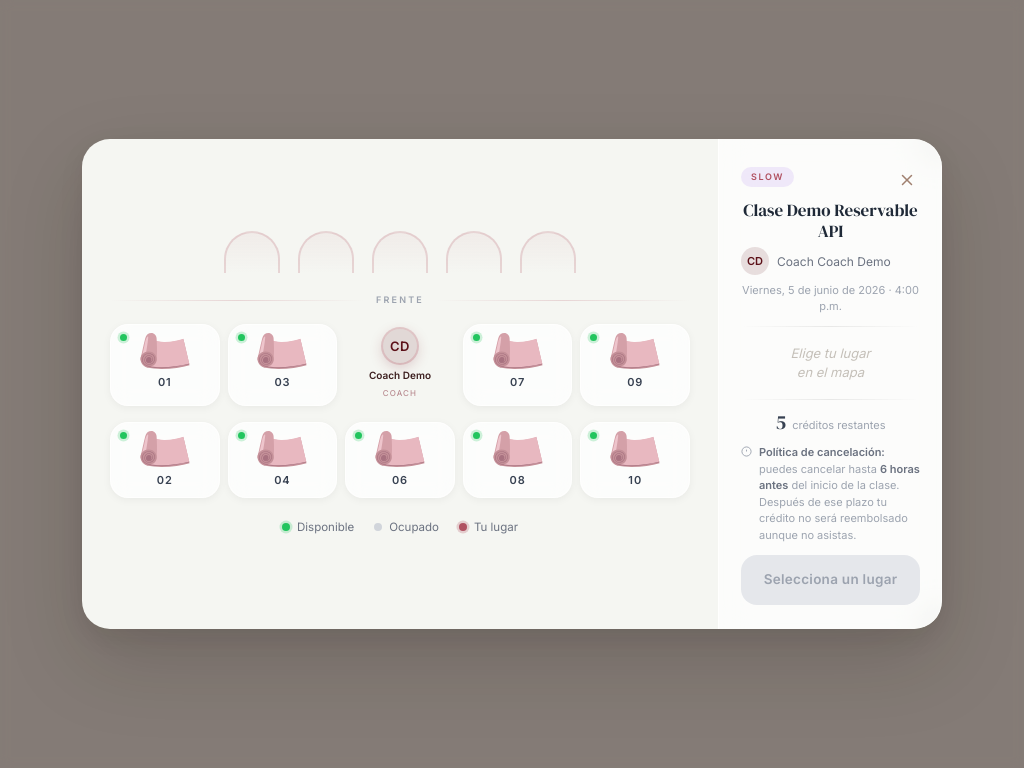
Test: EquipmentReservationPanel › al seleccionar segundo spot reemplaza el anterior y confirma solo un lugar
Click the button with test id "slow-spot-01" at [165, 365], box [110,324,220,406]
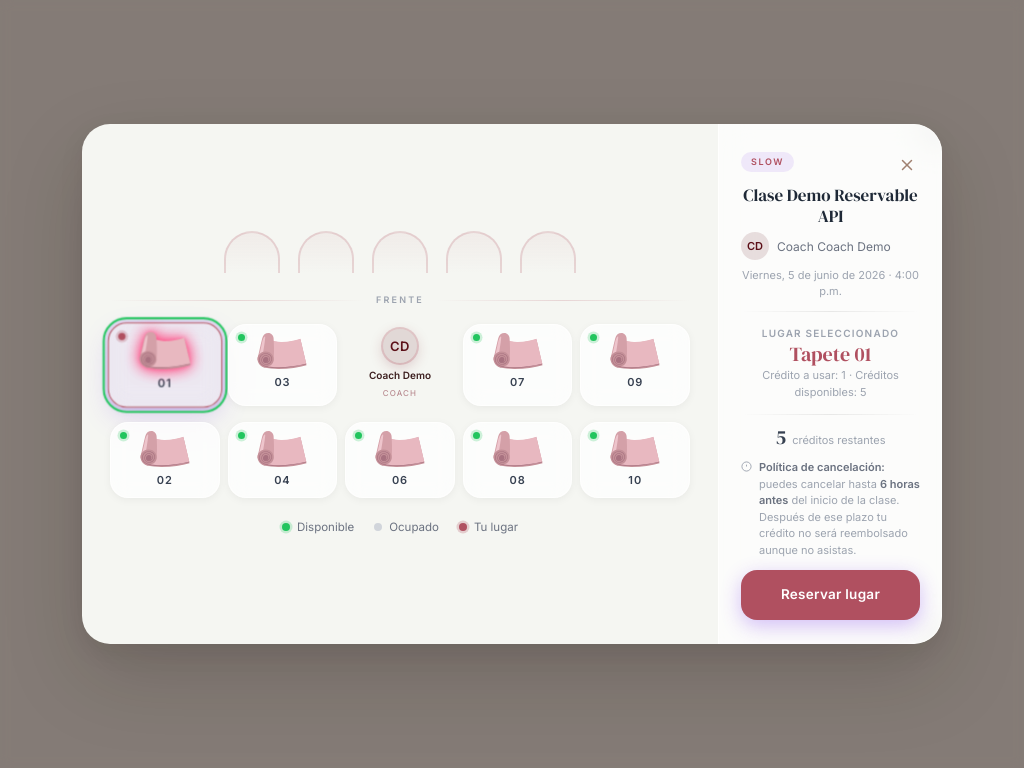
Click the button with test id "slow-spot-02" at [165, 460], box [110,422,220,498]
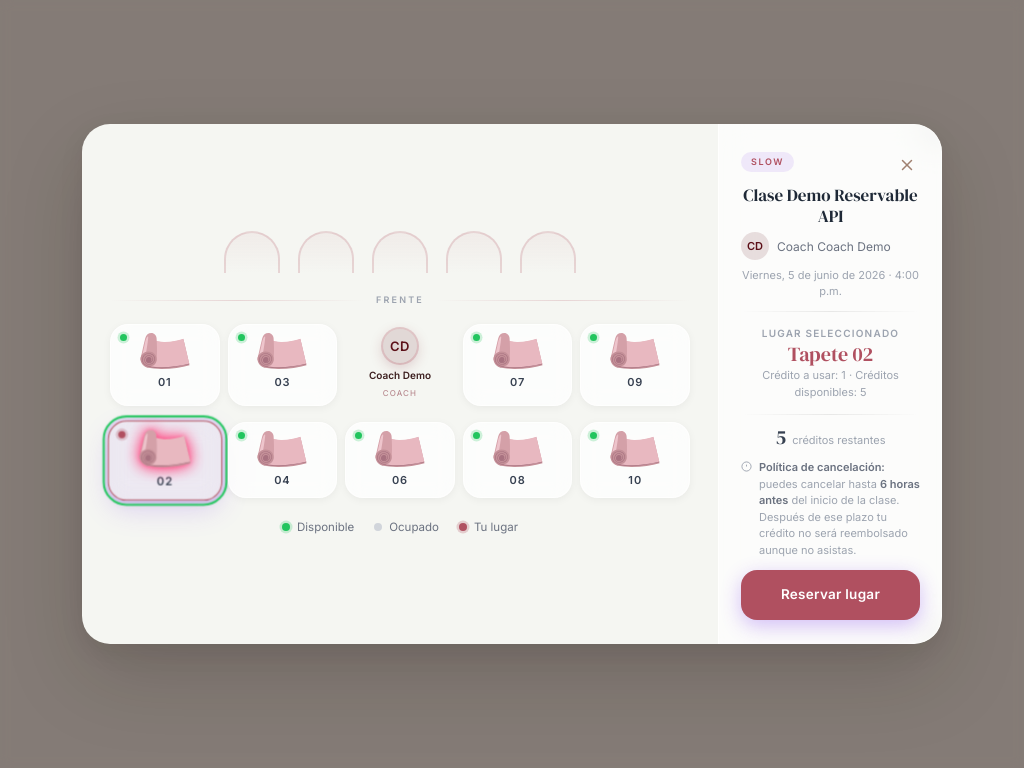
Expected: the text "Lugar seleccionado" is shown, [762,327,899,339]
Expected: the dialog named "Seleccionar lugar" shows "Crédito a usar: 1", [82,124,942,644]
Expected: the text "Tapete 02" is shown, [788,340,873,368]
Click the button "Reservar lugar" at [830, 595], box [741,570,920,620]
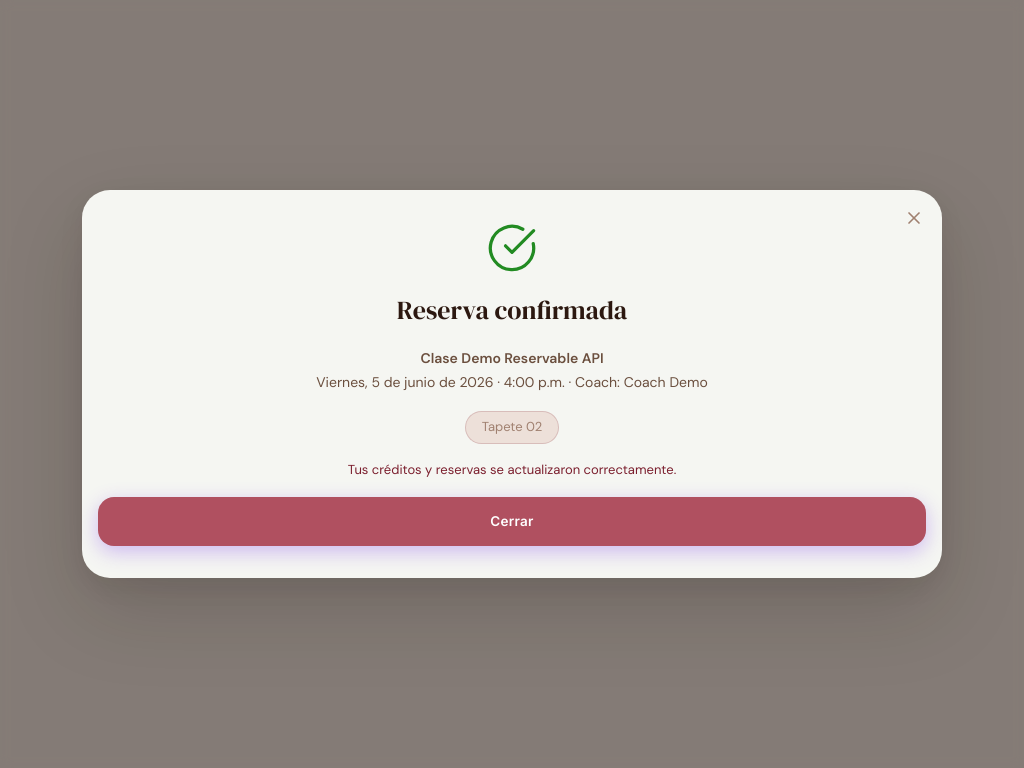
Expected: the heading "Reserva confirmada" is shown, [397,290,627,331]
Expected: the text "Tapete 02" is shown, [482,417,542,438]
